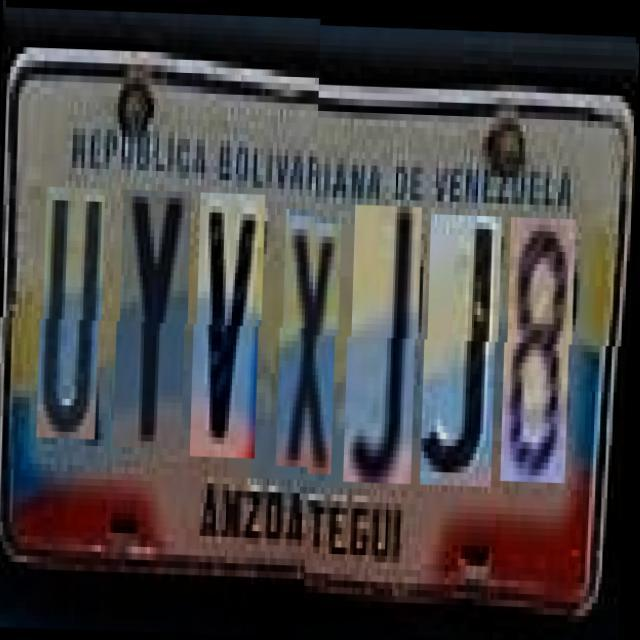8: (506, 207, 577, 472)
J: (426, 204, 504, 476), (349, 196, 424, 474)
U: (42, 186, 106, 438)
V: (196, 190, 266, 457)
X: (282, 207, 343, 466)
Y: (119, 188, 192, 448)
